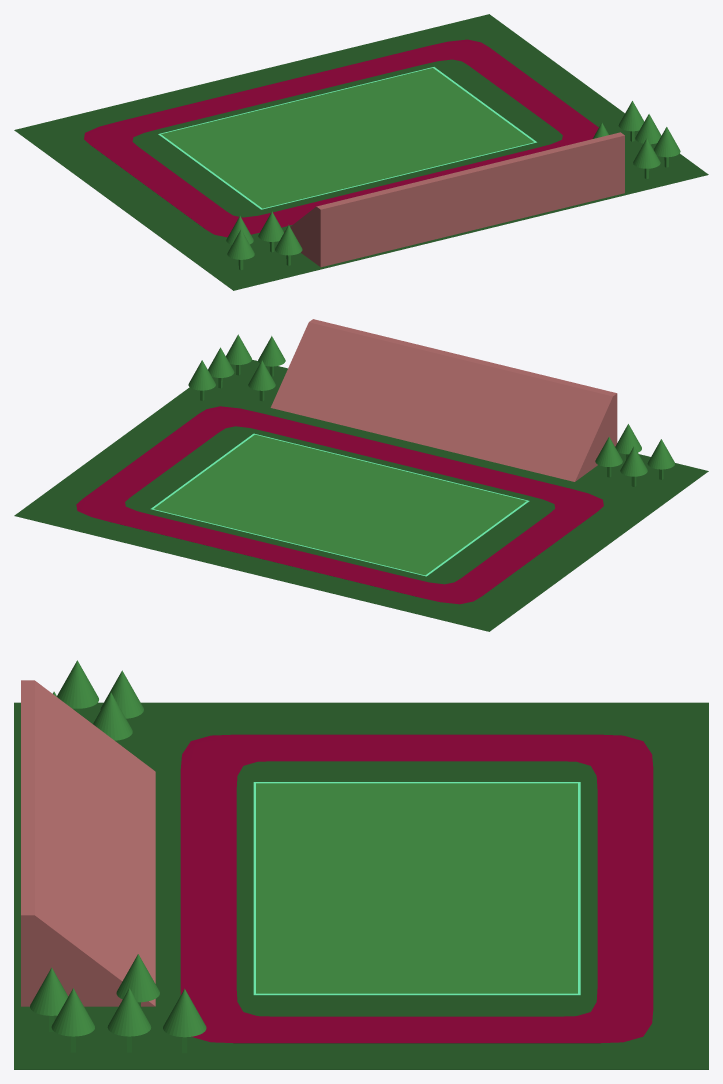
The model's file is sports_centre.glb.
3 renders of one model, top to bottom at view 1: azimuth 30°, elevation 25°; view 2: azimuth 150°, elevation 25°; view 3: azimuth 270°, elevation 25°, orthographic. The views are drawn at different scales.
Parts seen in each view (by area): view 1: Grass-col, Soccer Field-col, Stands-col, Run Track-col, Tree.001, Tree.002, Tree.007, Tree.008, Tree, Tree.005, Tree.006; view 2: Grass-col, Stands-col, Soccer Field-col, Run Track-col, Tree.004, Tree.003, Tree, Tree.001, Tree.005, Tree.006, Tree.007, Tree.008; view 3: Grass-col, Soccer Field-col, Run Track-col, Stands-col, Tree.005, Tree.008, Tree.006, Tree.001, Tree.007, Tree.004, Tree, Tree.003.
Boxes of the visible parts, box(x1,y1,x2,y2) form: Grass-col: box(14, 14, 708, 290); Soccer Field-col: box(158, 67, 536, 209); Stands-col: box(284, 132, 624, 267); Run Track-col: box(84, 39, 598, 237); Tree.001: box(227, 229, 254, 270); Tree.002: box(275, 225, 302, 265); Tree.007: box(633, 138, 660, 179); Tree.008: box(653, 127, 680, 167); Tree: box(258, 211, 283, 252); Tree.005: box(618, 101, 644, 141); Tree.006: box(635, 114, 661, 145); Grass-col: box(14, 359, 708, 631); Stands-col: box(270, 319, 617, 481); Soccer Field-col: box(150, 433, 529, 576); Run Track-col: box(76, 406, 603, 604); Tree.004: box(248, 360, 275, 401); Tree.003: box(620, 446, 647, 486); Tree: box(595, 436, 622, 477); Tree.001: box(647, 439, 674, 479); Tree.005: box(188, 360, 215, 400); Tree.006: box(208, 347, 234, 388); Tree.007: box(258, 336, 285, 376); Tree.008: box(226, 334, 251, 375); Grass-col: box(14, 702, 708, 1069); Soccer Field-col: box(253, 782, 580, 995); Run Track-col: box(180, 734, 653, 1043); Stands-col: box(21, 680, 155, 1006); Tree.005: box(163, 989, 206, 1053); Tree.008: box(51, 988, 94, 1052); Tree.006: box(107, 988, 151, 1052); Tree.001: box(57, 660, 98, 713); Tree.007: box(30, 967, 68, 1031); Tree.004: box(116, 954, 159, 1007); Tree: box(93, 692, 132, 740); Tree.003: box(100, 670, 143, 718).
Bounding box in the file's own units: 125 × 15 × 100.
Materials: 1 (1 with a texture image).
